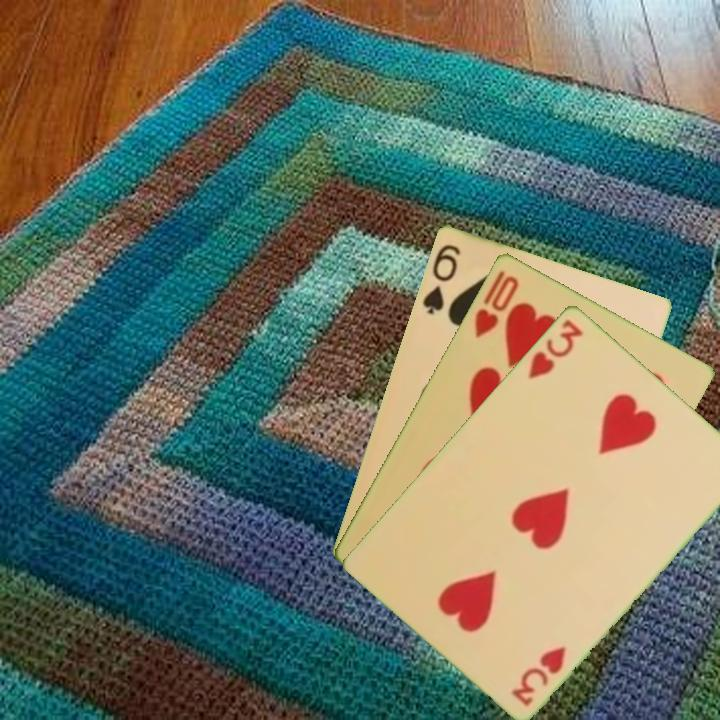10h: (470, 271, 522, 340)
3h: (525, 315, 586, 382), (508, 642, 569, 709)
6s: (418, 240, 464, 317)
